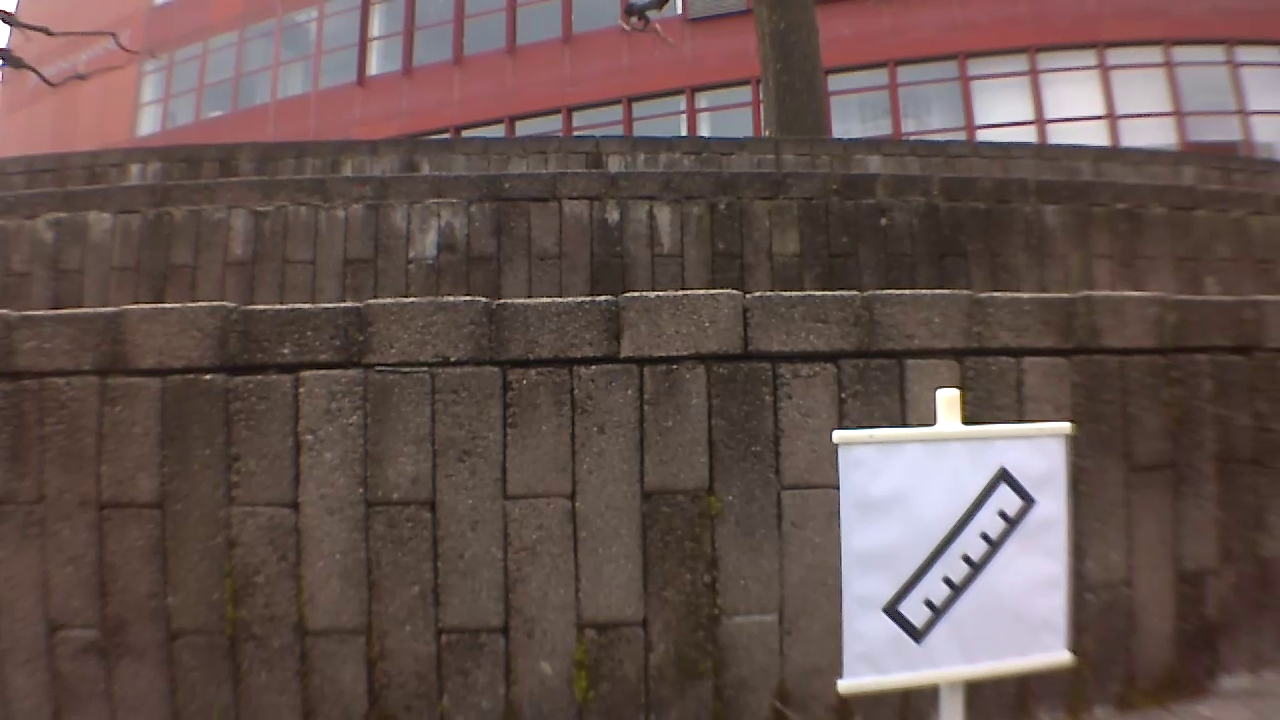ruler: (880, 461, 1043, 646)
